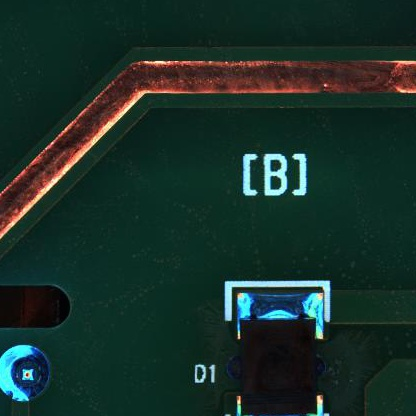spot: (1, 345, 53, 403)
